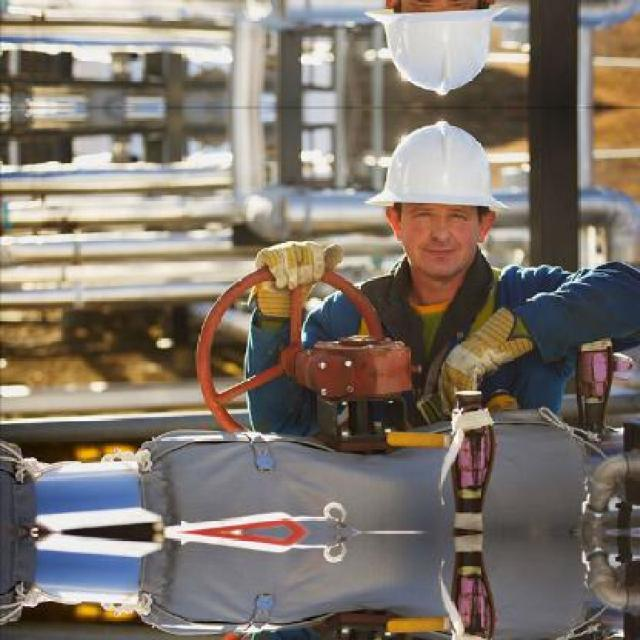helmet: (356, 114, 515, 288), (355, 0, 515, 98)
